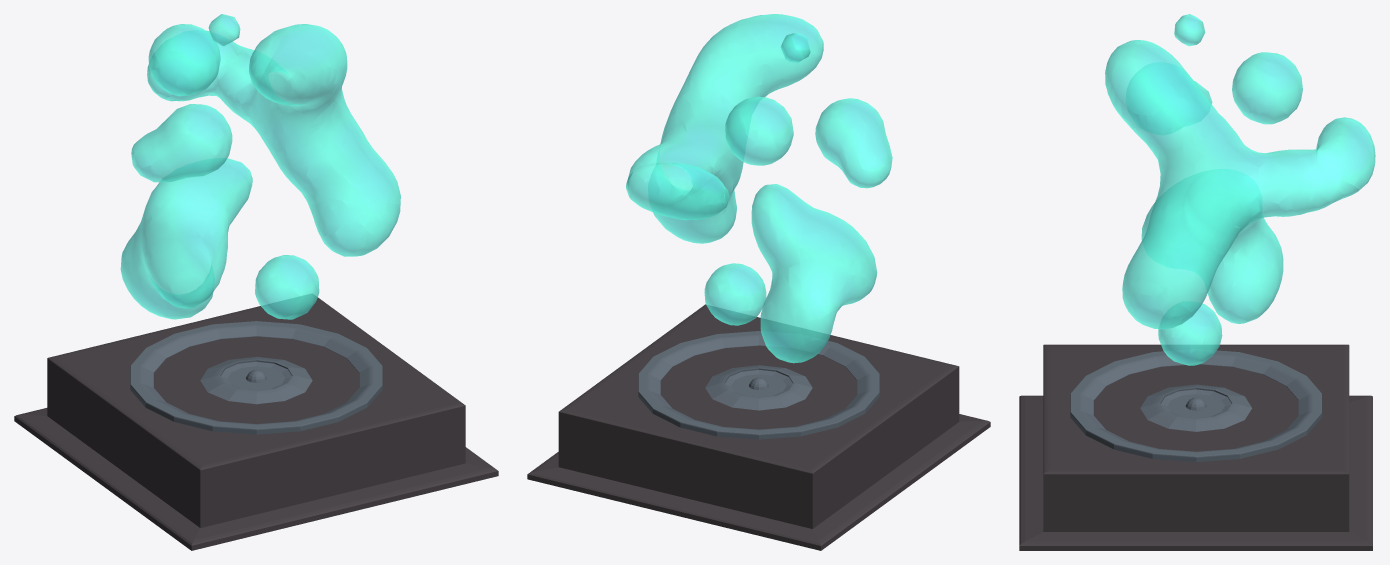
Rendered from flux-specimen-1.glb.
3 renders of one model, left to right at view 1: azimuth 30°, elevation 25°; view 2: azimuth 150°, elevation 25°; view 3: azimuth 270°, elevation 25°, orthographic. The views are drawn at different scales.
Visible parts, largest first — view 1: Cube.003, Mball.029, Cylinder.001, Cylinder; view 2: Cube.003, Mball.029, Cylinder.001, Cylinder; view 3: Cube.003, Mball.029, Cylinder.001, Cylinder.
Boxes of the visible parts, bbox=[...] form: Cube.003: bbox=[14, 294, 498, 550]; Mball.029: bbox=[120, 14, 400, 319]; Cylinder.001: bbox=[130, 321, 382, 434]; Cylinder: bbox=[200, 356, 312, 404]; Cube.003: bbox=[527, 304, 990, 550]; Mball.029: bbox=[626, 14, 892, 363]; Cylinder.001: bbox=[638, 331, 879, 439]; Cylinder: bbox=[705, 365, 812, 410]; Cube.003: bbox=[1019, 344, 1372, 550]; Mball.029: bbox=[1105, 14, 1375, 365]; Cylinder.001: bbox=[1070, 349, 1322, 462]; Cylinder: bbox=[1140, 384, 1252, 431].
Bounding box in the file's own units: 2.24 × 3.09 × 2.25.
